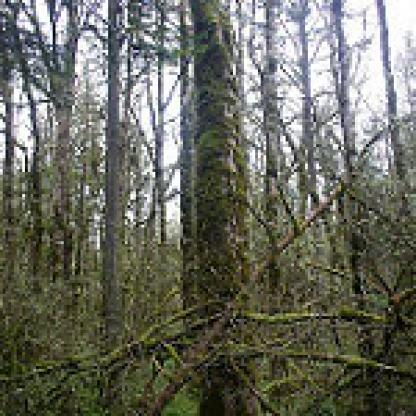trunk: (183, 3, 269, 413), (328, 0, 374, 358), (94, 3, 130, 413), (47, 3, 83, 277), (377, 0, 413, 219), (297, 0, 322, 214), (153, 0, 169, 244)
